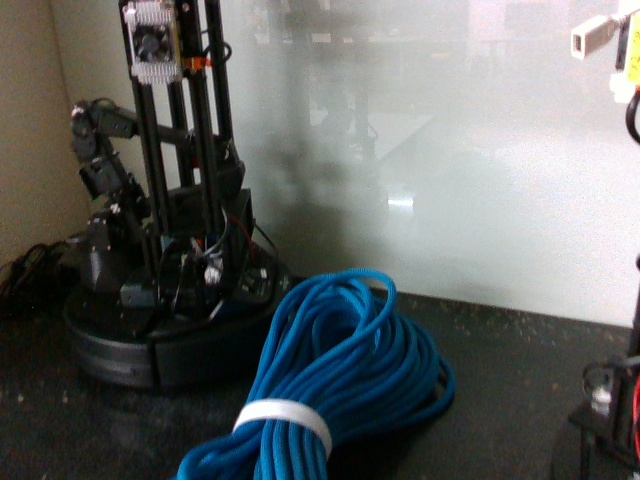rope: (164, 267, 462, 480)
